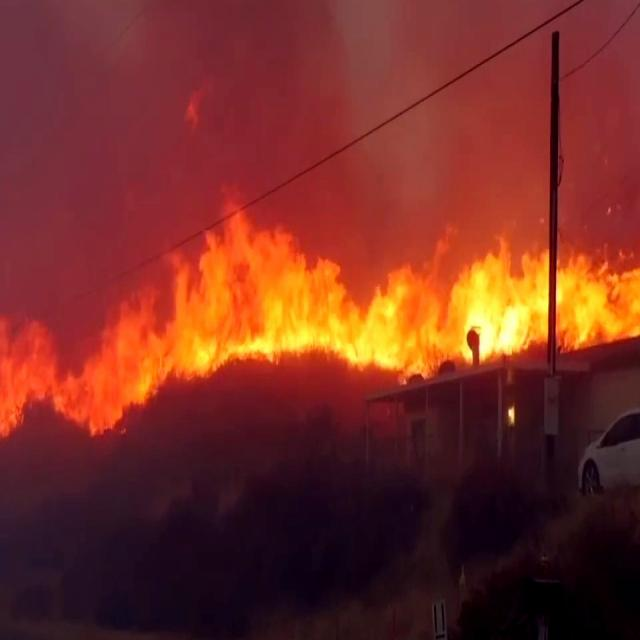fire: (119, 178, 595, 366), (0, 305, 91, 469)
